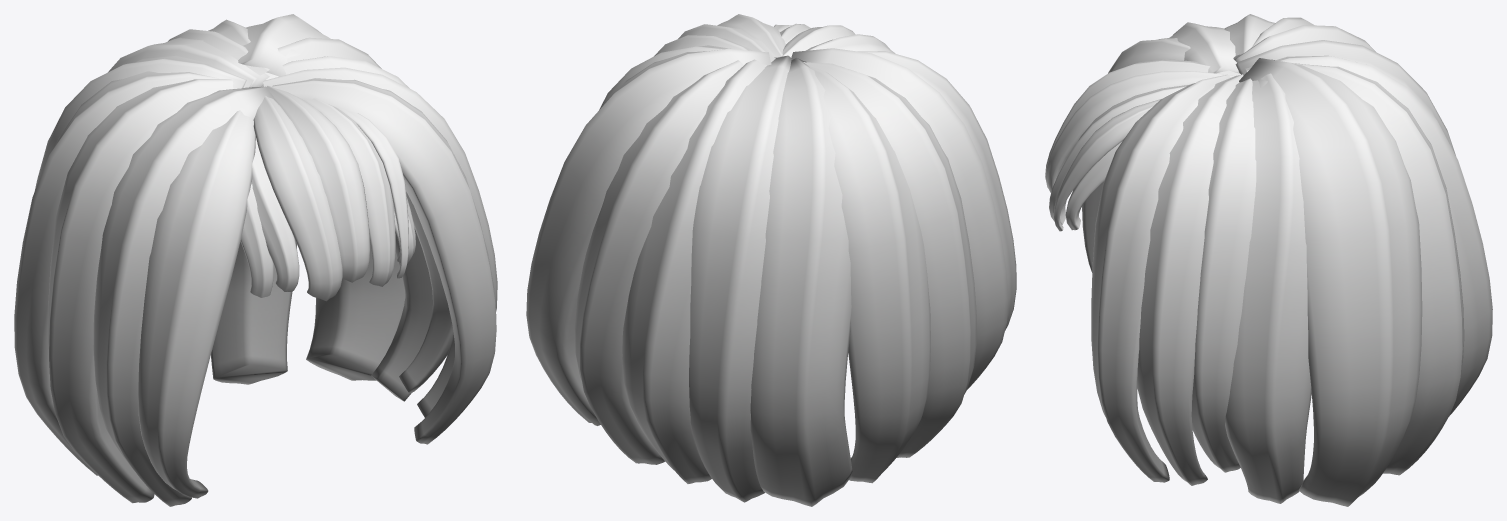
File: hairb2.fbx
3 views of the same model, side by side, from view 1: azimuth 30°, elevation 25°; view 2: azimuth 150°, elevation 25°; view 3: azimuth 270°, elevation 25° (orthographic). The views are drawn at different scales.
Visible parts, largest first — view 1: NurbsPath.020; view 2: NurbsPath.020; view 3: NurbsPath.020.
Boxes of the visible parts, left/top/right/bottom form: NurbsPath.020: left=14, top=14, right=497, bottom=506; NurbsPath.020: left=526, top=14, right=1016, bottom=506; NurbsPath.020: left=1045, top=14, right=1492, bottom=506.
Size of the model in its own units: 305 by 319 by 302.
